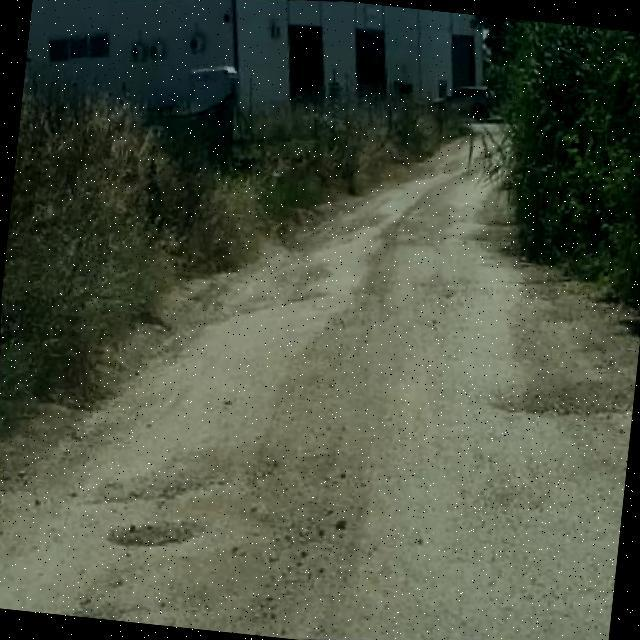Pothole: (107, 518, 205, 546)
